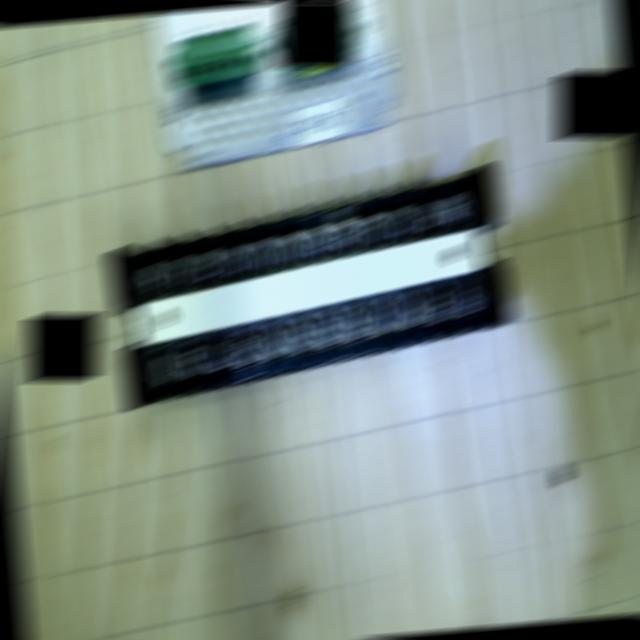Flathead_Block: (94, 166, 525, 406)
Terminal_1: (269, 4, 362, 69), (170, 25, 259, 84)
